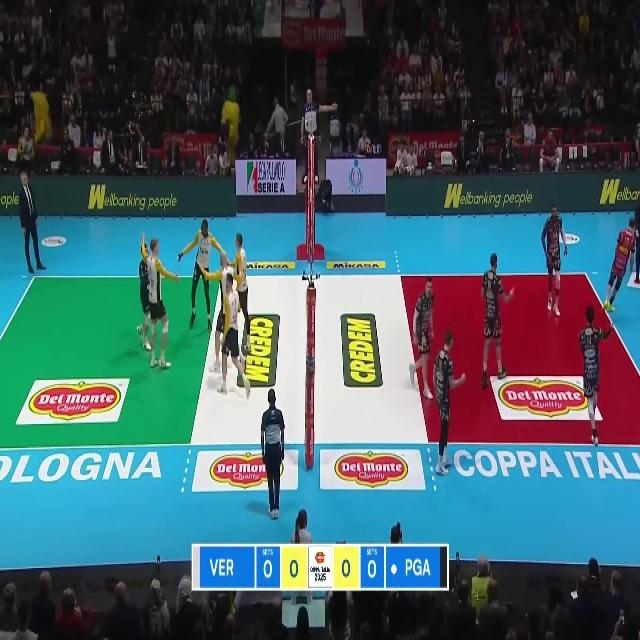volleyball court: (1, 270, 640, 450)
